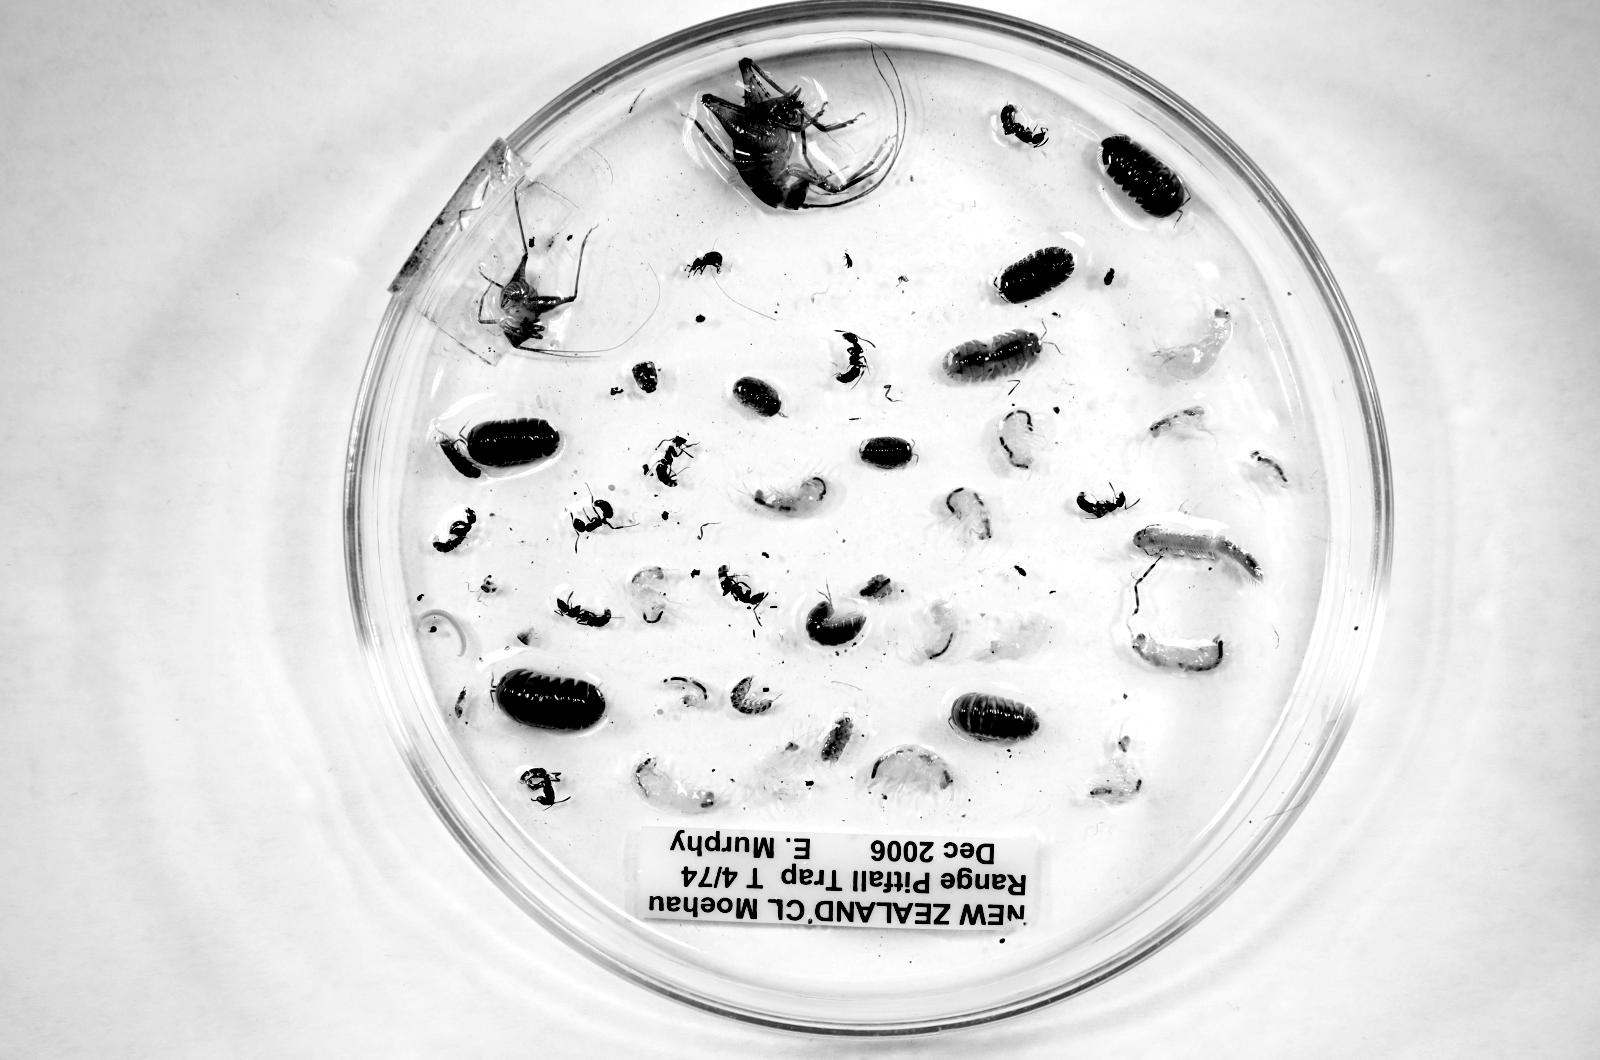amphipoda: (1152, 308, 1231, 380), (631, 757, 715, 813), (870, 744, 953, 799), (1132, 633, 1223, 672), (753, 476, 829, 516), (990, 613, 1051, 659), (1089, 752, 1142, 804), (753, 742, 798, 800), (946, 487, 992, 541), (997, 408, 1037, 468), (628, 567, 667, 623), (922, 600, 958, 659), (1148, 406, 1213, 438)
coleoptera: (687, 252, 723, 276), (844, 252, 853, 267)
collembola: (454, 689, 467, 719)
diplopoda: (1133, 525, 1262, 581), (415, 609, 467, 657)
formicidae: (646, 435, 697, 487), (719, 565, 767, 609), (999, 104, 1048, 147), (433, 509, 477, 552), (571, 499, 621, 534), (519, 768, 561, 807), (836, 332, 867, 383), (556, 599, 610, 626), (1076, 492, 1128, 518)
isopoda: (491, 668, 605, 731), (1101, 134, 1186, 218), (944, 329, 1042, 382), (467, 418, 561, 467), (996, 246, 1075, 303), (950, 692, 1039, 742), (805, 601, 866, 646), (732, 376, 782, 416), (438, 435, 481, 478), (860, 437, 913, 468), (731, 677, 773, 715)
orthoptera: (687, 58, 903, 209), (478, 214, 581, 347)
